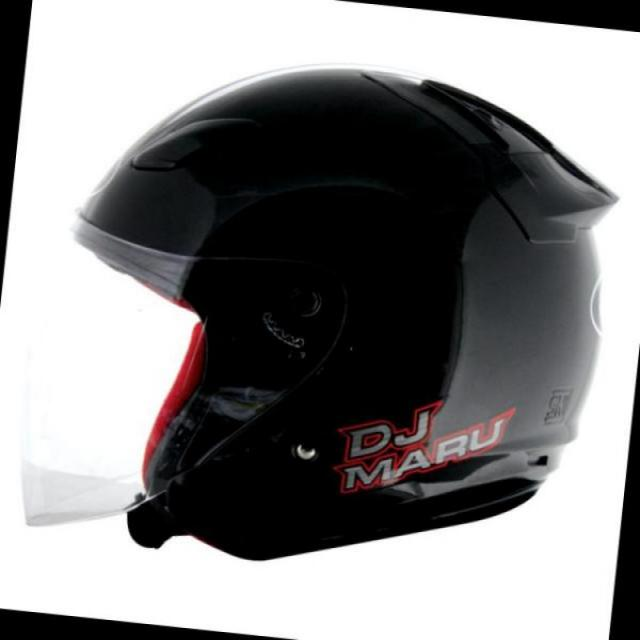Helmet: (39, 77, 600, 552)
